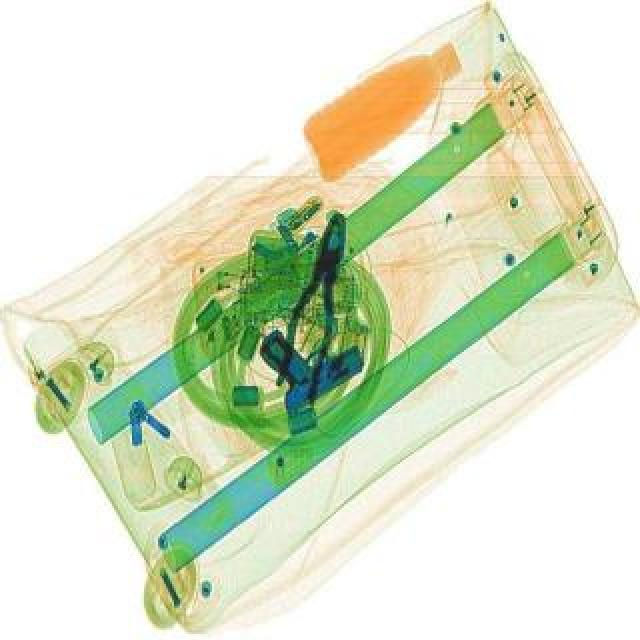gun: (238, 302, 374, 422)
wrench: (270, 212, 362, 410)
